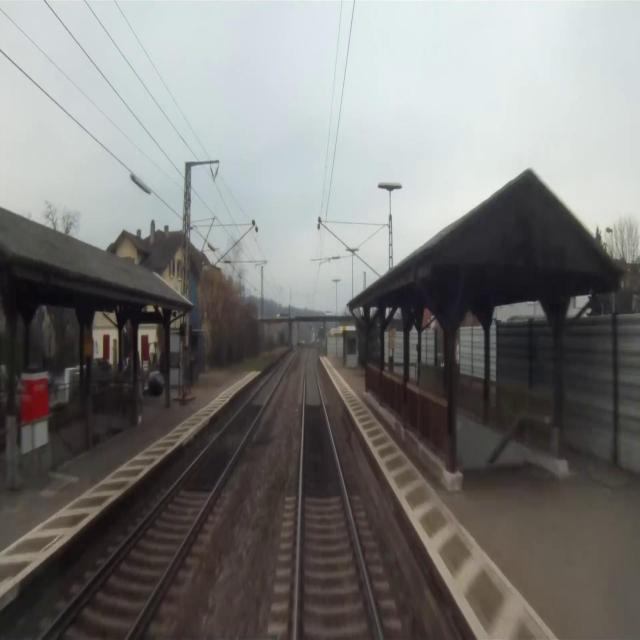rail-track: (44, 357, 290, 639), (298, 351, 379, 639)
